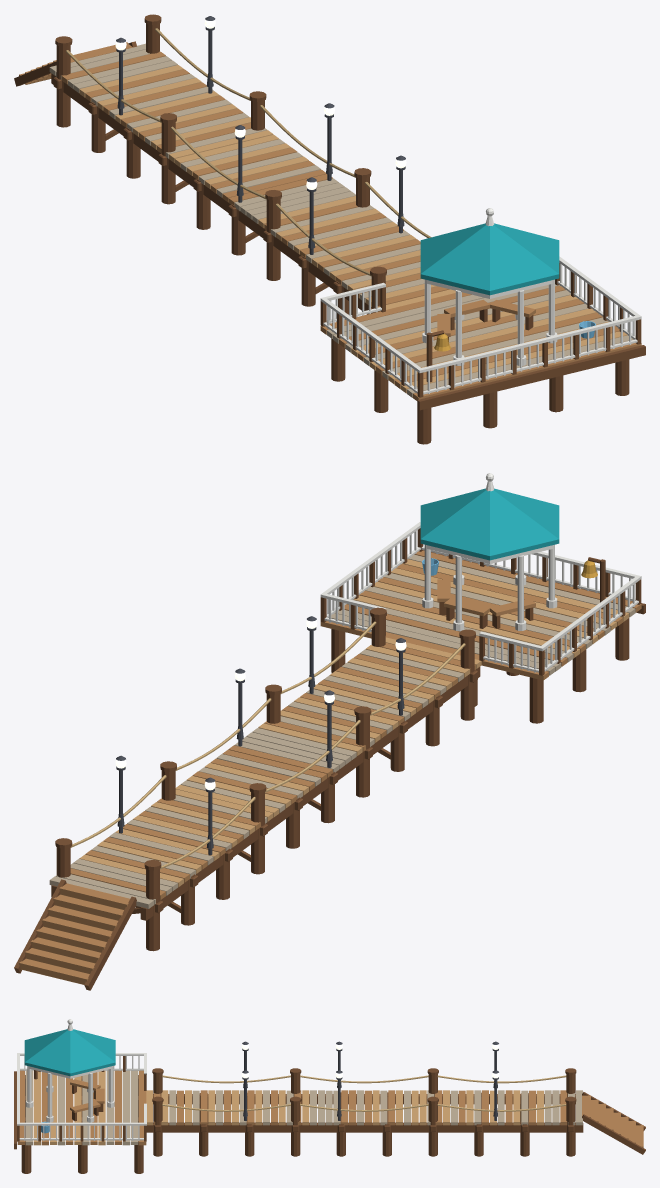
Rendered from Pier.fbx.
3 views of the same model, one above another, from view 1: azimuth 30°, elevation 25°; view 2: azimuth 150°, elevation 25°; view 3: azimuth 270°, elevation 25° (orthographic). The views are drawn at different scales.
Visible parts, largest first — view 1: Pier_WoodDark, Pier_Driftwood, Pier_Plank, Pier_WoodLight, Pier_White, Pier_Teal, Pier_DarkMetal, Pier_Rope; view 2: Pier_Plank, Pier_WoodDark, Pier_Driftwood, Pier_WoodLight, Pier_White, Pier_Teal, Pier_Rope, Pier_DarkMetal; view 3: Pier_WoodDark, Pier_Plank, Pier_Driftwood, Pier_WoodLight, Pier_Teal, Pier_White, Pier_Rope, Pier_DarkMetal.
Part boxes in pixels (bbox=[...]): Pier_WoodDark: bbox=[14, 14, 645, 444]; Pier_Driftwood: bbox=[49, 43, 633, 397]; Pier_Plank: bbox=[19, 42, 641, 400]; Pier_WoodLight: bbox=[79, 65, 627, 393]; Pier_White: bbox=[320, 208, 641, 394]; Pier_Teal: bbox=[420, 223, 559, 295]; Pier_DarkMetal: bbox=[116, 16, 405, 254]; Pier_Rope: bbox=[66, 28, 431, 276]; Pier_Plank: bbox=[19, 550, 641, 984]; Pier_WoodDark: bbox=[14, 528, 645, 990]; Pier_Driftwood: bbox=[49, 554, 635, 908]; Pier_WoodLight: bbox=[79, 559, 629, 887]; Pier_White: bbox=[320, 473, 641, 672]; Pier_Teal: bbox=[420, 488, 559, 560]; Pier_Rope: bbox=[70, 621, 465, 869]; Pier_DarkMetal: bbox=[116, 616, 405, 855]; Pier_WoodDark: bbox=[14, 1056, 645, 1173]; Pier_Plank: bbox=[17, 1070, 643, 1147]; Pier_Driftwood: bbox=[25, 1070, 582, 1145]; Pier_WoodLight: bbox=[33, 1070, 543, 1145]; Pier_Teal: bbox=[24, 1029, 115, 1076]; Pier_White: bbox=[17, 1019, 146, 1140]; Pier_Rope: bbox=[162, 1075, 566, 1111]; Pier_DarkMetal: bbox=[242, 1041, 498, 1120].
Size of the model in its own units: 27.4 by 21.84 by 101.
